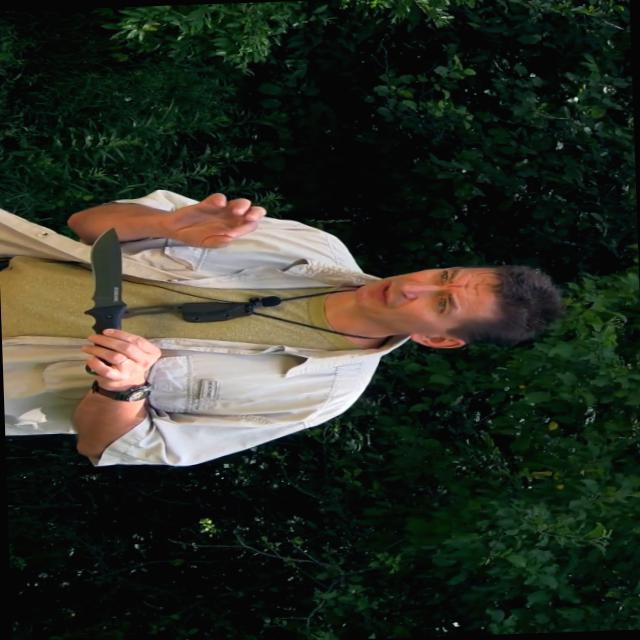knife: (76, 222, 152, 376)
